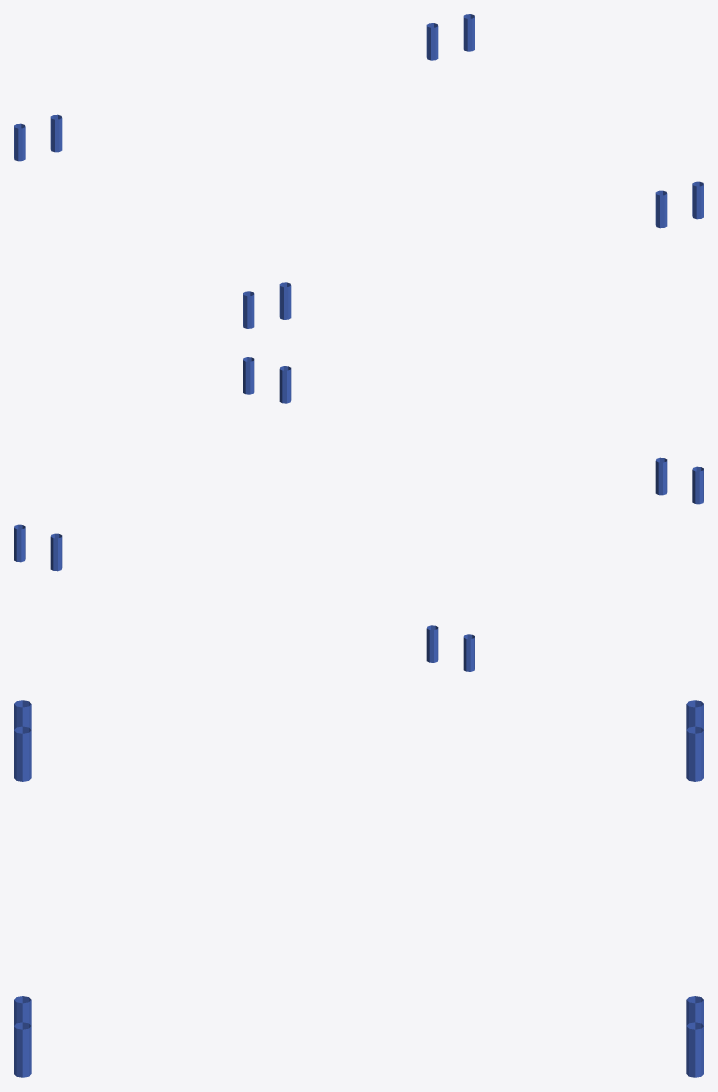
The model's file is pipe_holders.fbx.
3 renders of one model, top to bottom at view 1: azimuth 30°, elevation 25°; view 2: azimuth 150°, elevation 25°; view 3: azimuth 270°, elevation 25°, orthographic. The views are drawn at different scales.
Visible parts, largest first — view 1: pipe holders; view 2: pipe holders; view 3: pipe holders.
Part boxes in pixels (bbox=[...]): pipe holders: bbox=[14, 14, 703, 328]; pipe holders: bbox=[14, 357, 703, 671]; pipe holders: bbox=[14, 700, 703, 1077].
Size of the model in its own units: 89.12 by 6.07 by 78.85.
